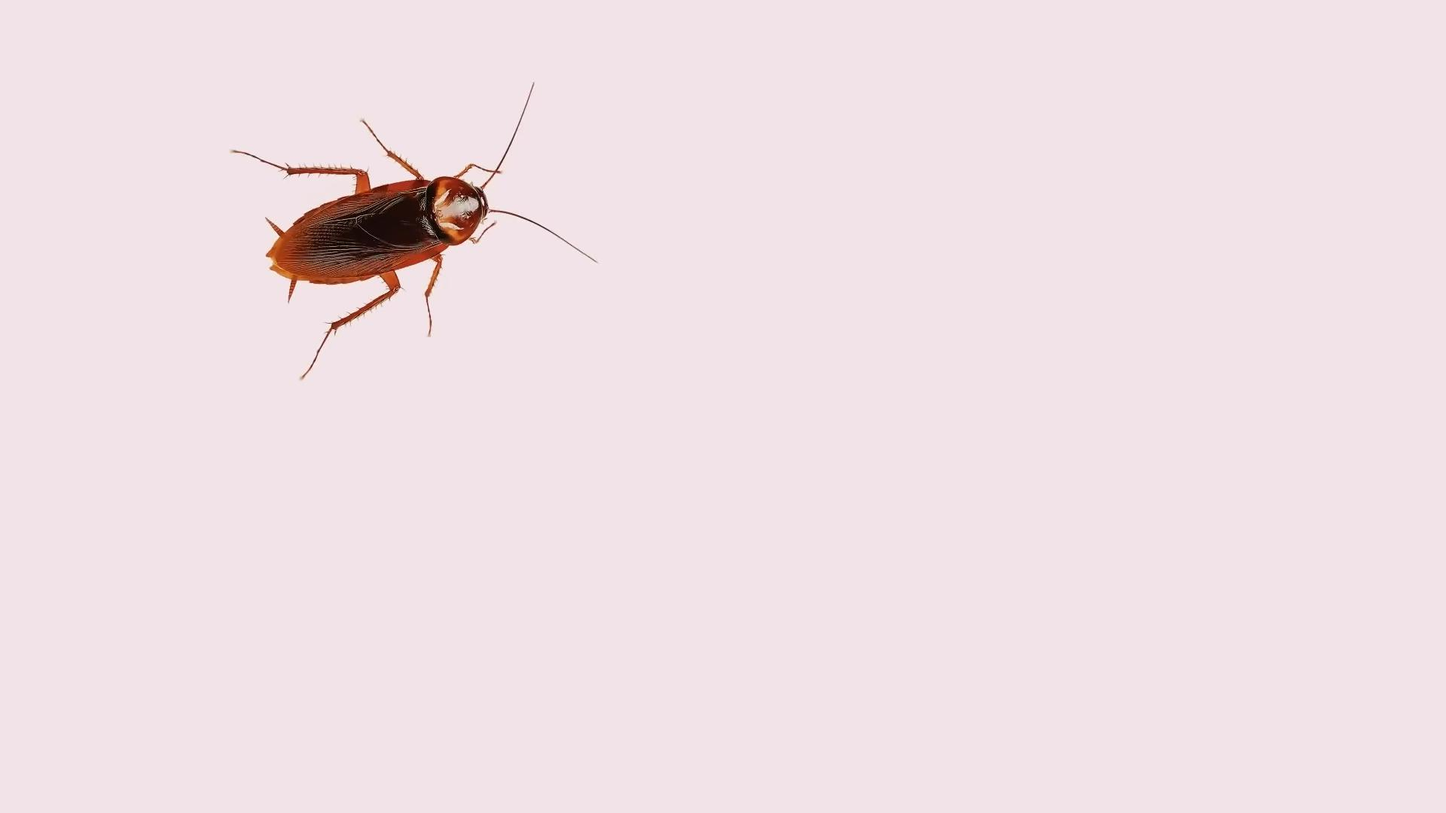cockroach: (217, 85, 591, 386)
